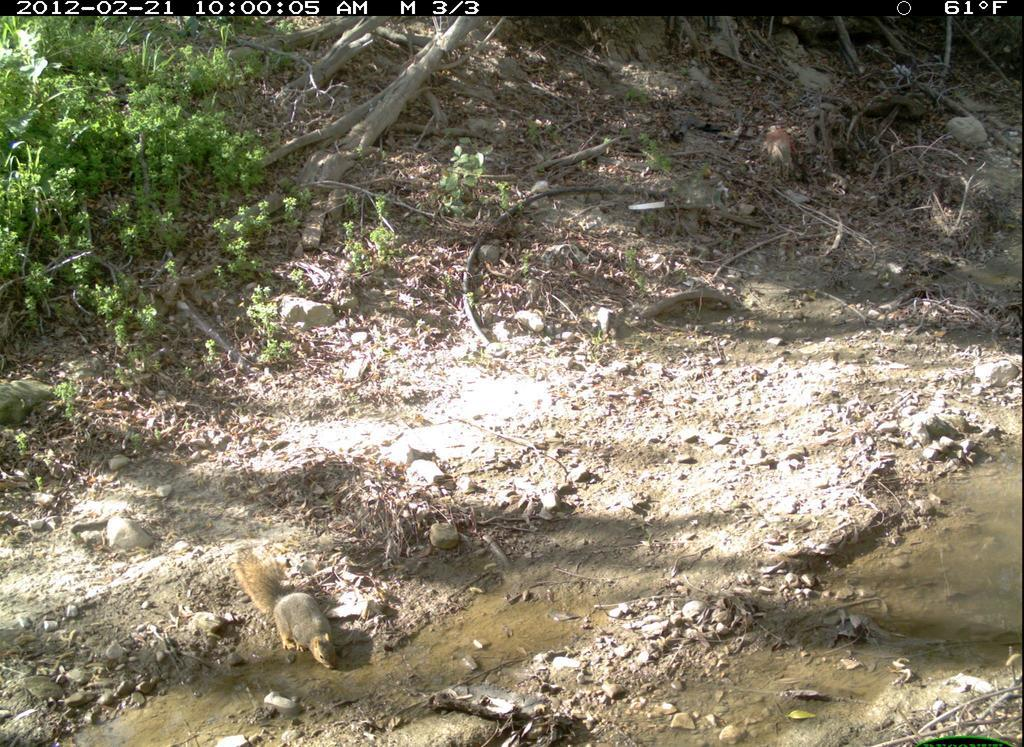squirrel: (226, 538, 351, 679)
